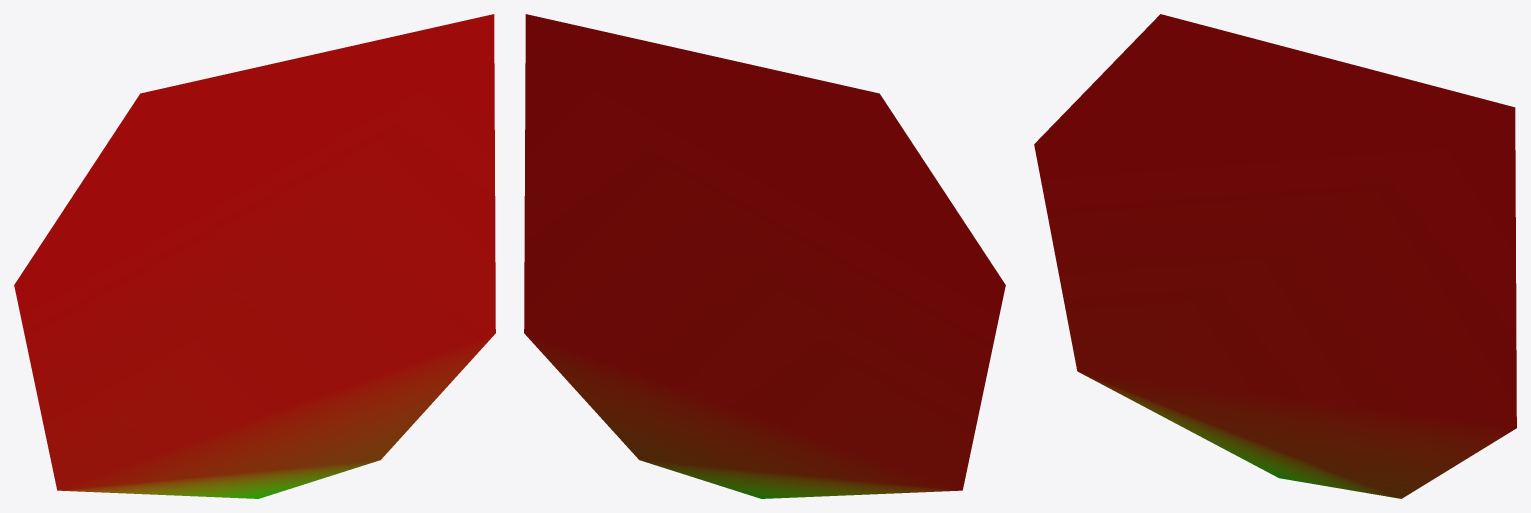
Rendered from Leptadenia_LOD5_Var2_xdkgfgtqx.fbx.
3 renders of one model, left to right at view 1: azimuth 30°, elevation 25°; view 2: azimuth 150°, elevation 25°; view 3: azimuth 330°, elevation 25°, orthographic.
Parts seen in each view (by area): view 1: _59mz_Var2_LOD5; view 2: _59mz_Var2_LOD5; view 3: _59mz_Var2_LOD5.
Part boxes in pixels (x1=…): _59mz_Var2_LOD5: x1=14, y1=14, x2=495, y2=498; _59mz_Var2_LOD5: x1=524, y1=14, x2=1005, y2=498; _59mz_Var2_LOD5: x1=1034, y1=14, x2=1516, y2=498.
Bounding box in the file's own units: 127 × 110 × 0.
